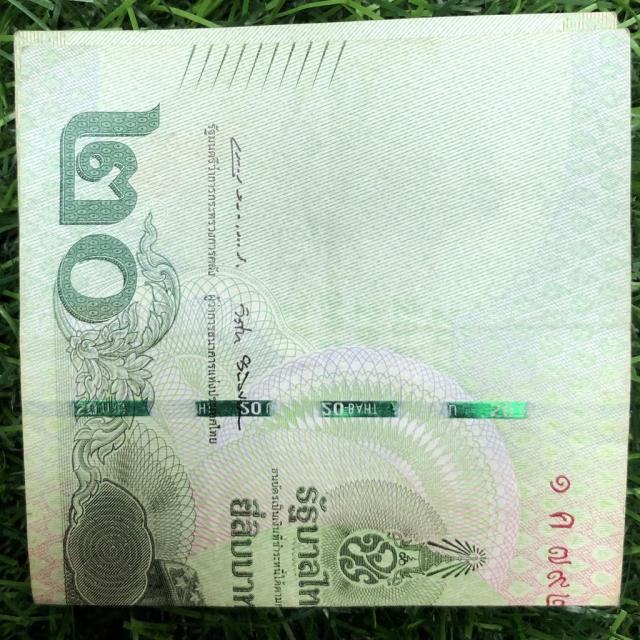THAI20: (15, 13, 630, 608)
